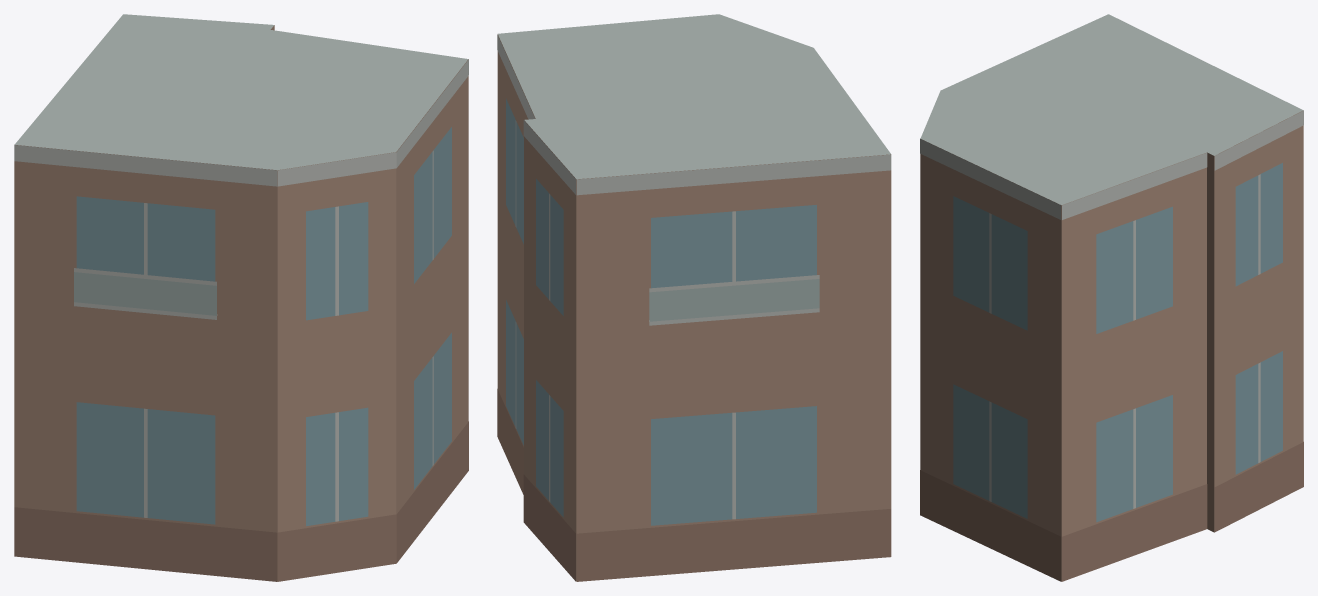
File: survey-upis-32938072.glb
3 renders of one model, left to right at view 1: azimuth 30°, elevation 25°; view 2: azimuth 150°, elevation 25°; view 3: azimuth 270°, elevation 25°, orthographic. The views are drawn at different scales.
Visible parts, largest first — view 1: survey-upis-32938072.tmp; view 2: survey-upis-32938072.tmp; view 3: survey-upis-32938072.tmp.
Part boxes in pixels (x1,y1,x2,y2): survey-upis-32938072.tmp: (14,14,468,581); survey-upis-32938072.tmp: (497,14,891,581); survey-upis-32938072.tmp: (920,14,1303,581).
Bounding box in the file's own units: 6.65 × 6.1 × 5.64.
